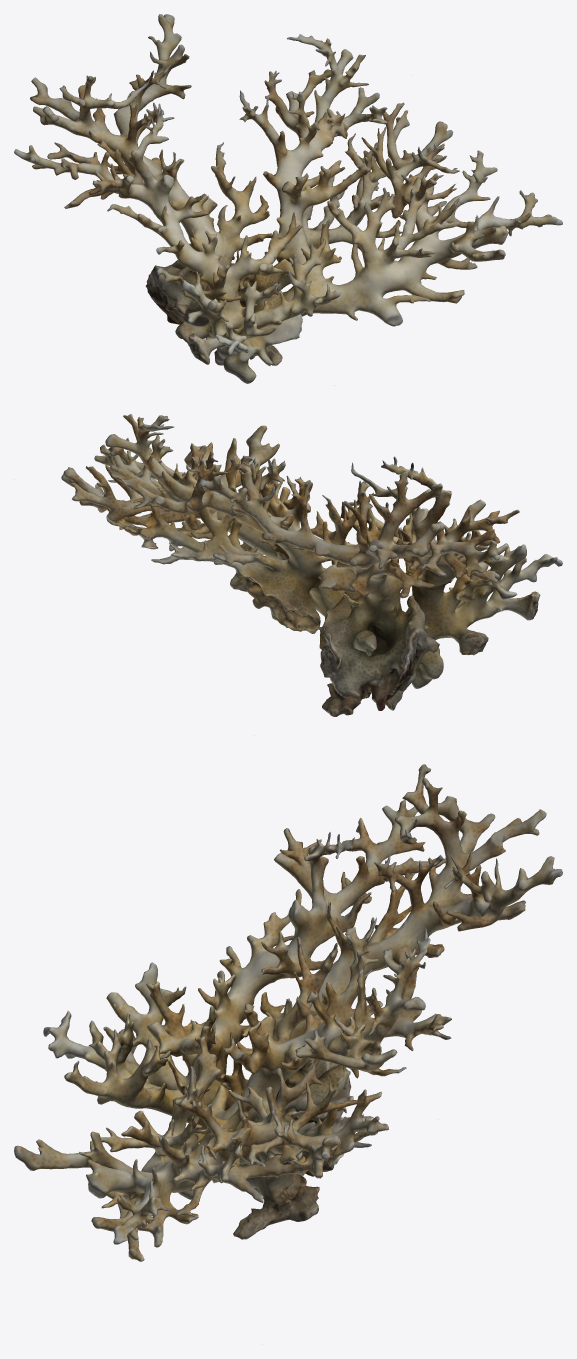
Rendered from 1651656891_usnm_93379-100k-2048.gltf.
3 views of the same model, one above another, from view 1: azimuth 30°, elevation 25°; view 2: azimuth 150°, elevation 25°; view 3: azimuth 270°, elevation 25° (orthographic). The views are drawn at different scales.
Bounding box in the file's own units: 0.185 × 0.1258 × 0.1425.
1 material, 1 textured.
